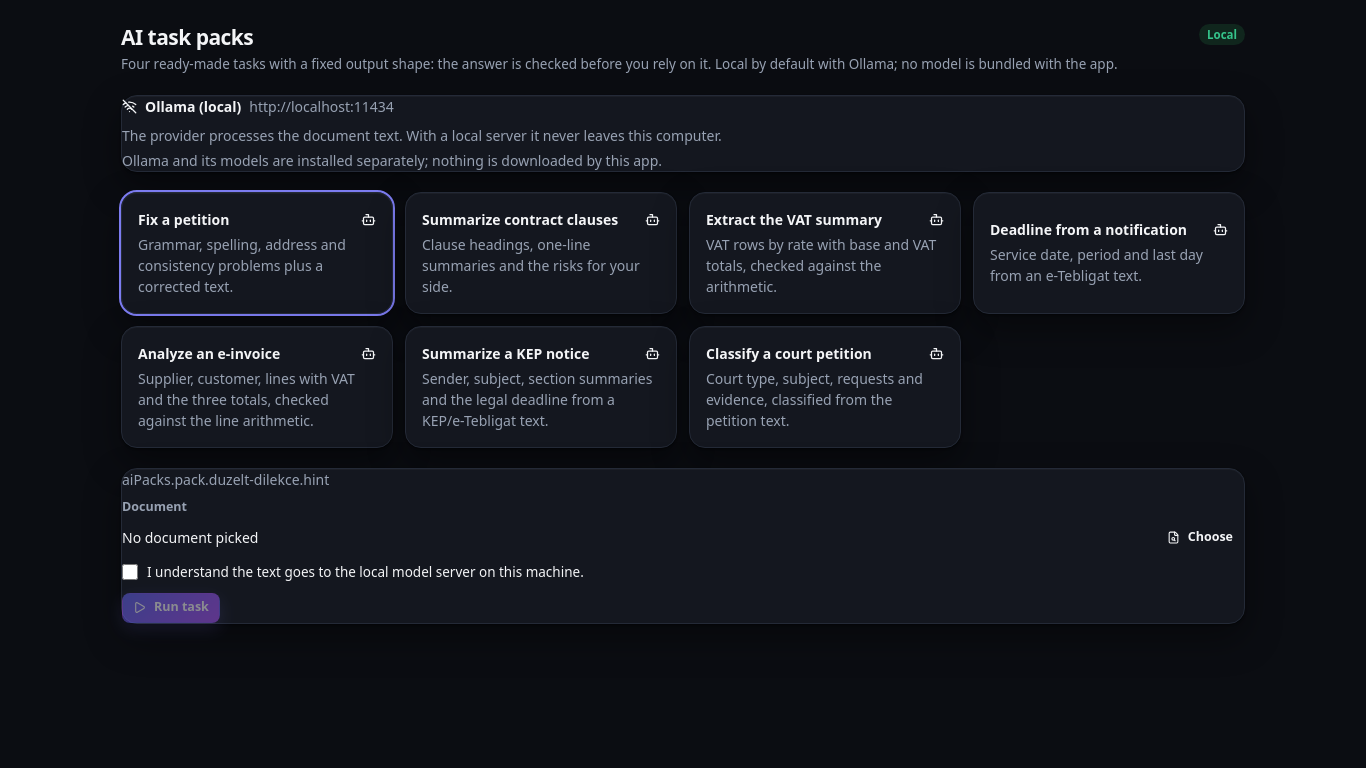
Test: AiPacks (C7) › reports a non-JSON answer instead of trusting it
Expected: the text "Local" is shown, [1199,24,1245,45]
Click the button "Choose" at (1200, 537), box [1156,522,1244,552]
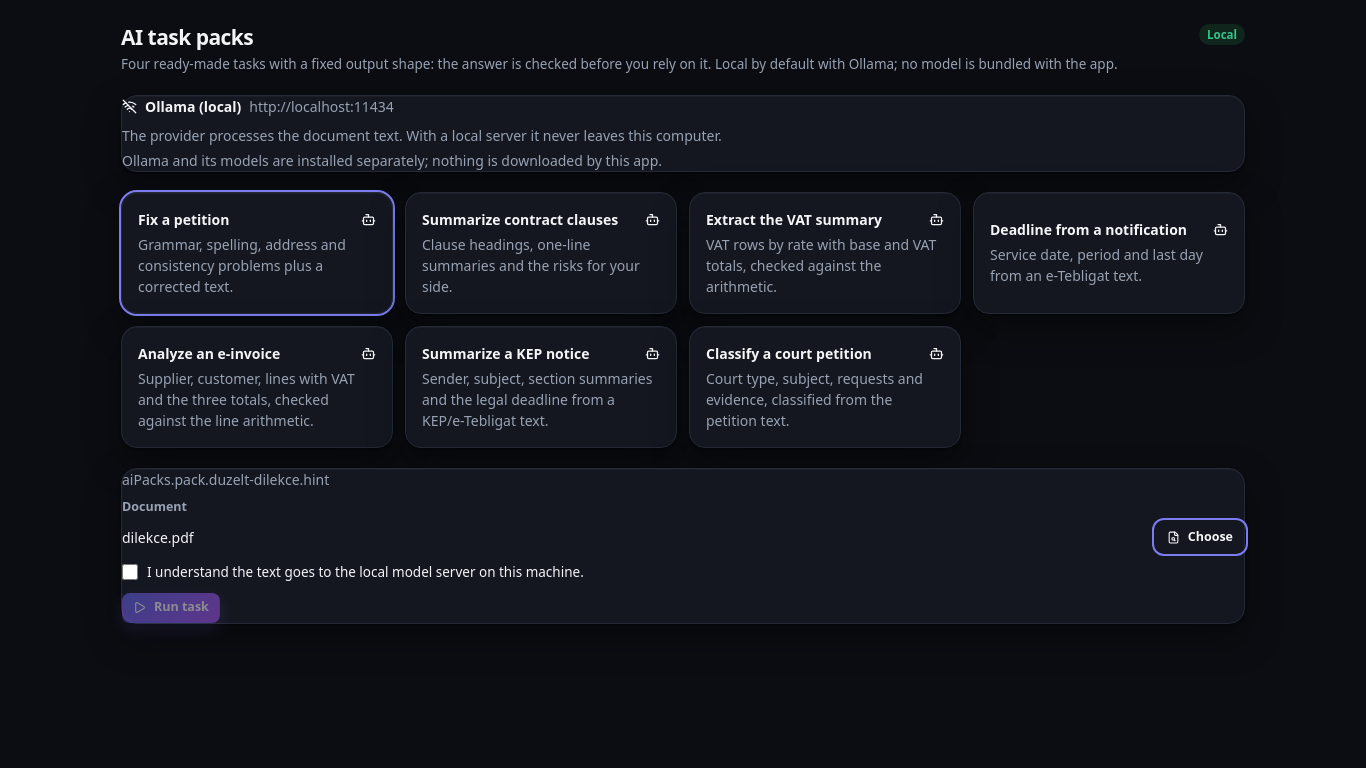
Result: the text "dilekce.pdf" is shown at [122,528,194,547]
Click the checkbox at (130, 572), box [122,564,138,580]
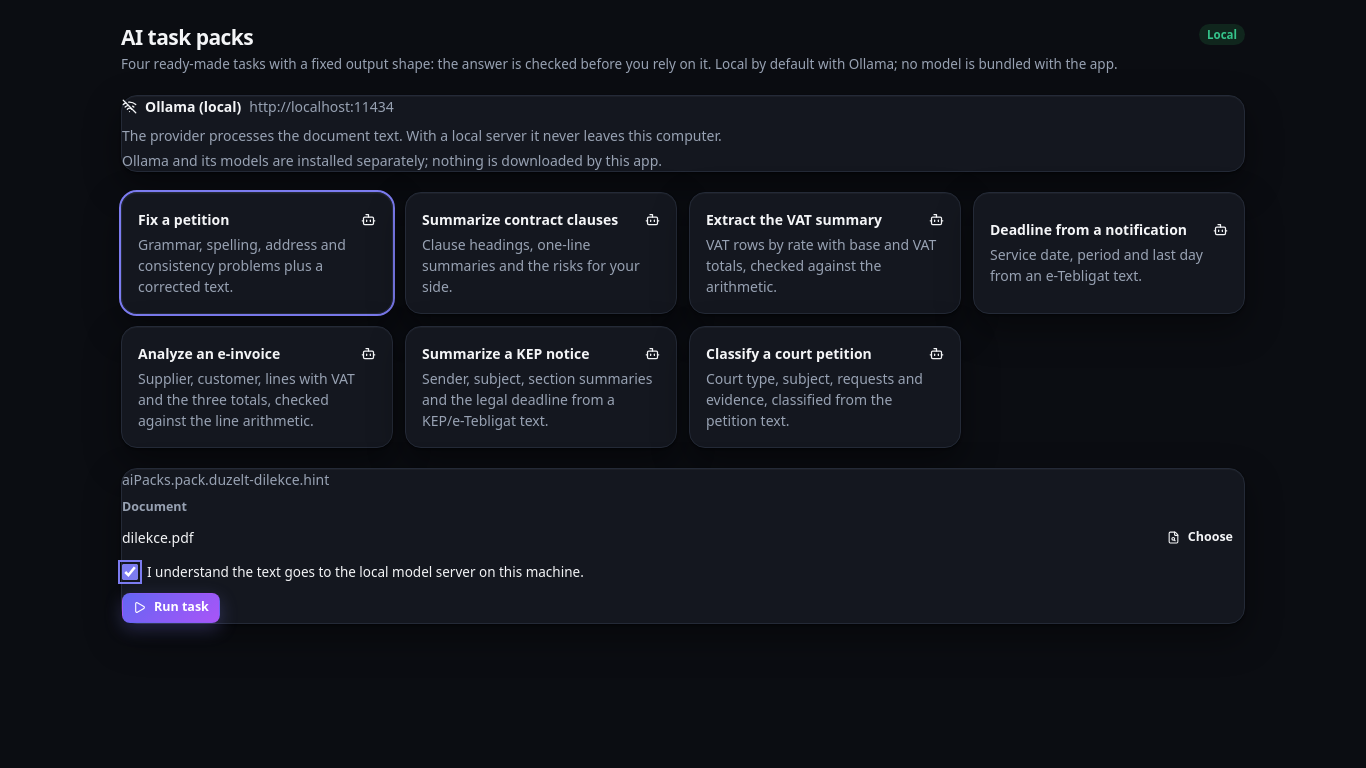
Click the button "Run task" at (171, 608), box [122,592,220,622]
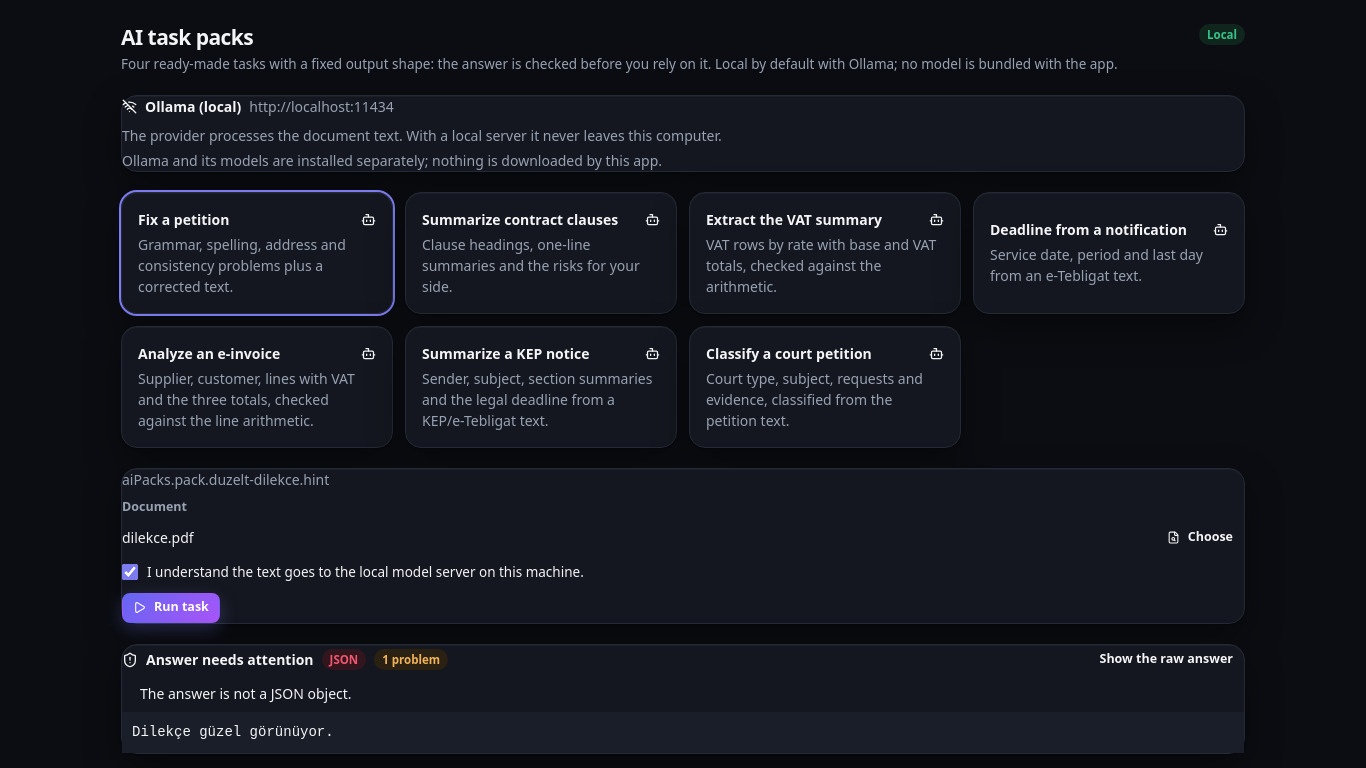
Result: the text "Answer needs attention" is shown at [146,649,314,670]
Result: the list item "The answer is not a JSON object." is shown at [140,684,352,702]
